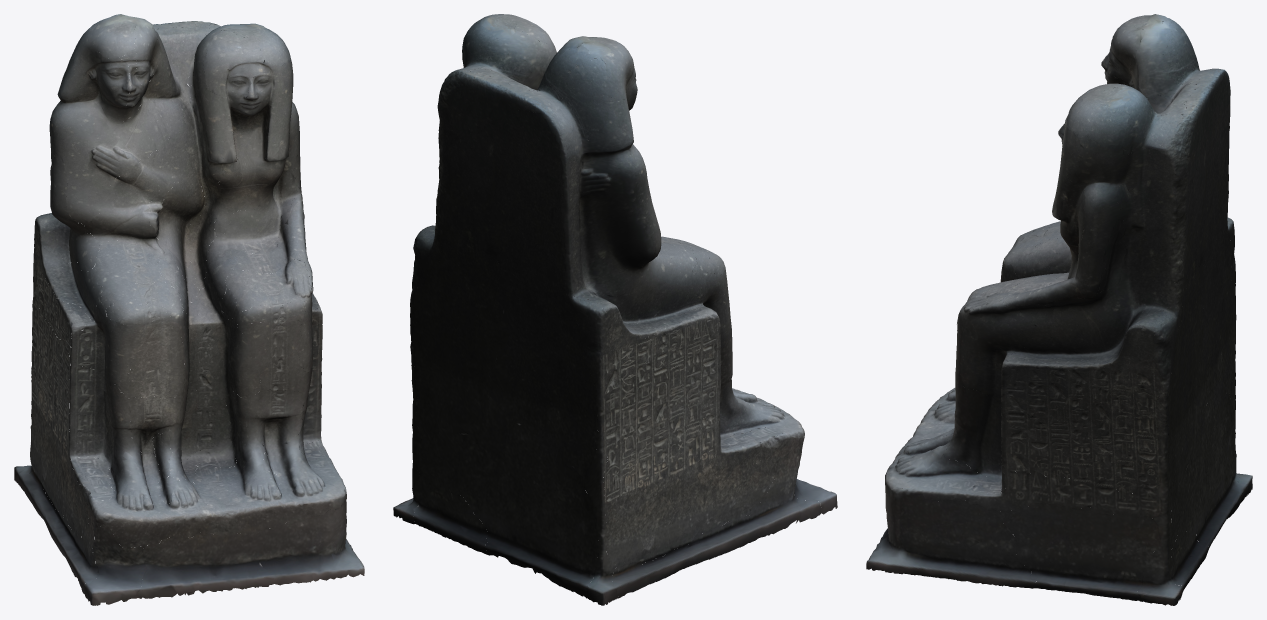
File: decimated_priest_ahmose.glb
The picture shows the model from 3 angles, left to right: view 1: azimuth 30°, elevation 25°; view 2: azimuth 150°, elevation 25°; view 3: azimuth 270°, elevation 25°; orthographic projection. The views are drawn at different scales.
Visible parts, largest first — view 1: Object_3; view 2: Object_3; view 3: Object_3.
Part boxes in pixels (x1,y1,x2,y2): Object_3: (14, 14, 364, 605); Object_3: (393, 14, 837, 605); Object_3: (866, 14, 1252, 605).
Bounding box in the file's own units: 1.91 × 2.87 × 2.02.
Materials: 4 (4 with a texture image).
